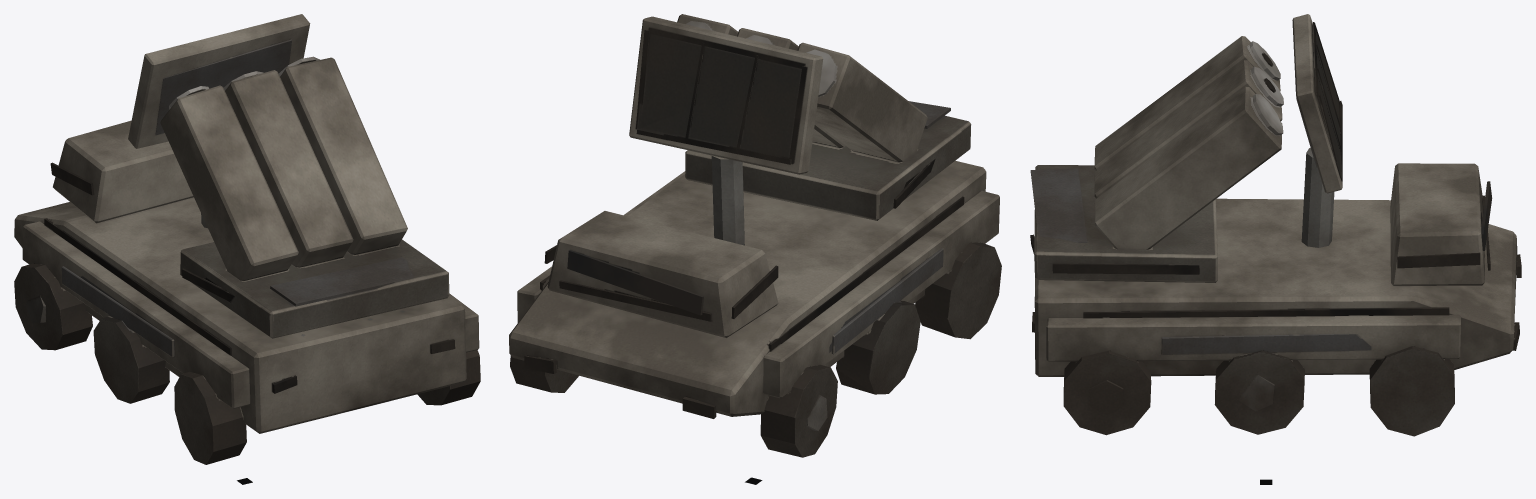
File: ord_seraph_wreck.fbx
3 views of the same model, side by side, from view 1: azimuth 30°, elevation 25°; view 2: azimuth 150°, elevation 25°; view 3: azimuth 270°, elevation 25° (orthographic). The views are drawn at different scales.
Parts seen in each view (by area): view 1: base_bar, launcher_bar, turret_bar, wheelL3_bar, wheelL1_bar, wheelL2_bar, wheelR3_bar; view 2: base_bar, turret_bar, launcher_bar, wheelL3_bar, wheelL1_bar, wheelL2_bar, wheelR1_bar; view 3: base_bar, launcher_bar, turret_bar, wheelR1_bar, wheelR2_bar, wheelR3_bar.
Boxes of the visible parts, bbox=[...] form: base_bar: bbox=[14, 120, 479, 433]; launcher_bar: bbox=[160, 56, 449, 338]; turret_bar: bbox=[128, 14, 310, 228]; wheelL3_bar: bbox=[174, 371, 246, 464]; wheelL1_bar: bbox=[14, 263, 92, 350]; wheelL2_bar: bbox=[93, 316, 169, 403]; wheelR3_bar: bbox=[417, 350, 480, 405]; base_bar: bbox=[509, 160, 999, 418]; turret_bar: bbox=[629, 16, 823, 245]; launcher_bar: bbox=[677, 14, 971, 220]; wheelL3_bar: bbox=[915, 242, 1001, 339]; wheelL1_bar: bbox=[760, 364, 837, 457]; wheelL2_bar: bbox=[836, 301, 920, 394]; wheelR1_bar: bbox=[510, 355, 578, 392]; base_bar: bbox=[1030, 163, 1521, 376]; launcher_bar: bbox=[1030, 36, 1283, 282]; turret_bar: bbox=[1292, 14, 1342, 247]; wheelR1_bar: bbox=[1369, 346, 1454, 436]; wheelR2_bar: bbox=[1214, 350, 1304, 434]; wheelR3_bar: bbox=[1063, 350, 1151, 435].
Bounding box in the file's own units: 514 × 775 × 802.
2 materials, 2 textured.
